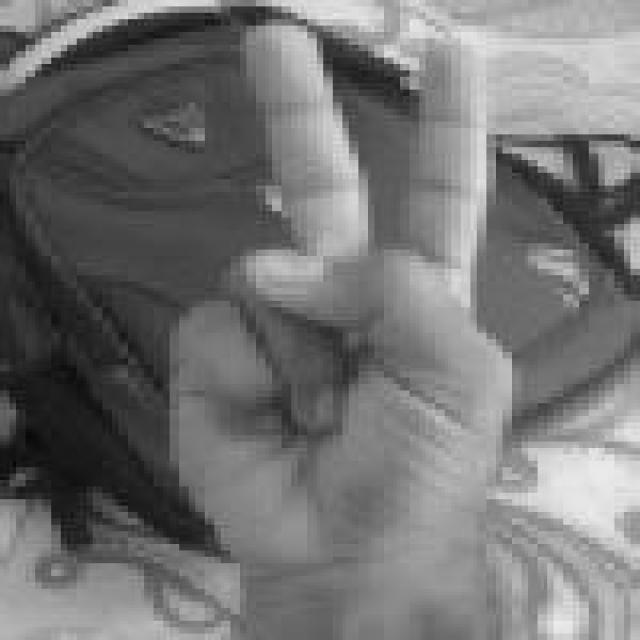V: (156, 15, 522, 588)
